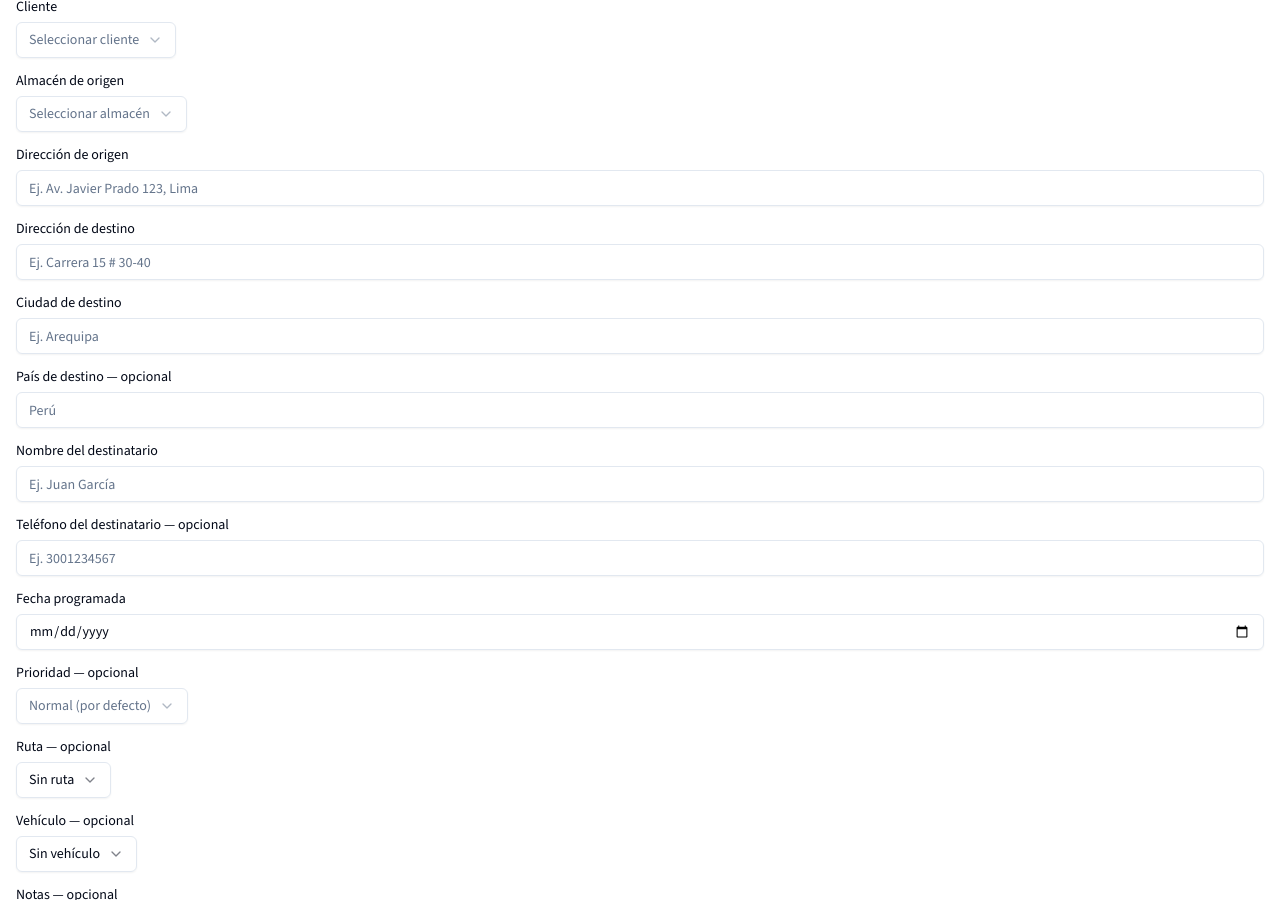
Test case: ShipmentCreateForm — validation › shows error when origin_address is empty on submit
// fill other text fields but leave origin_address empty
In the field with placeholder "Ej. Carrera 15 # 30-40": (640, 262) [16, 244, 1264, 280], type "Av. 456"
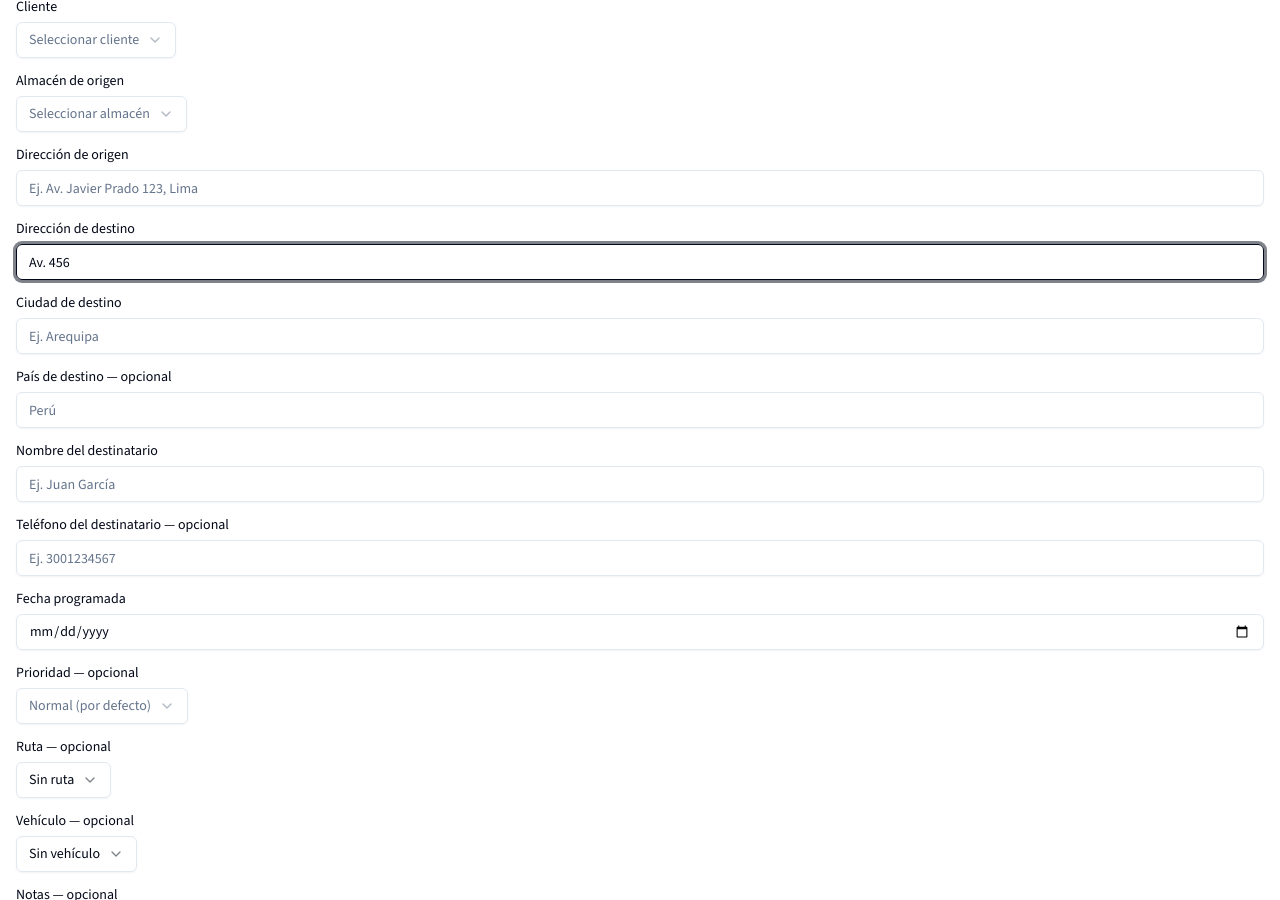
In the field with placeholder "Ej. Arequipa": (640, 336) [16, 318, 1264, 354], type "Medellín"
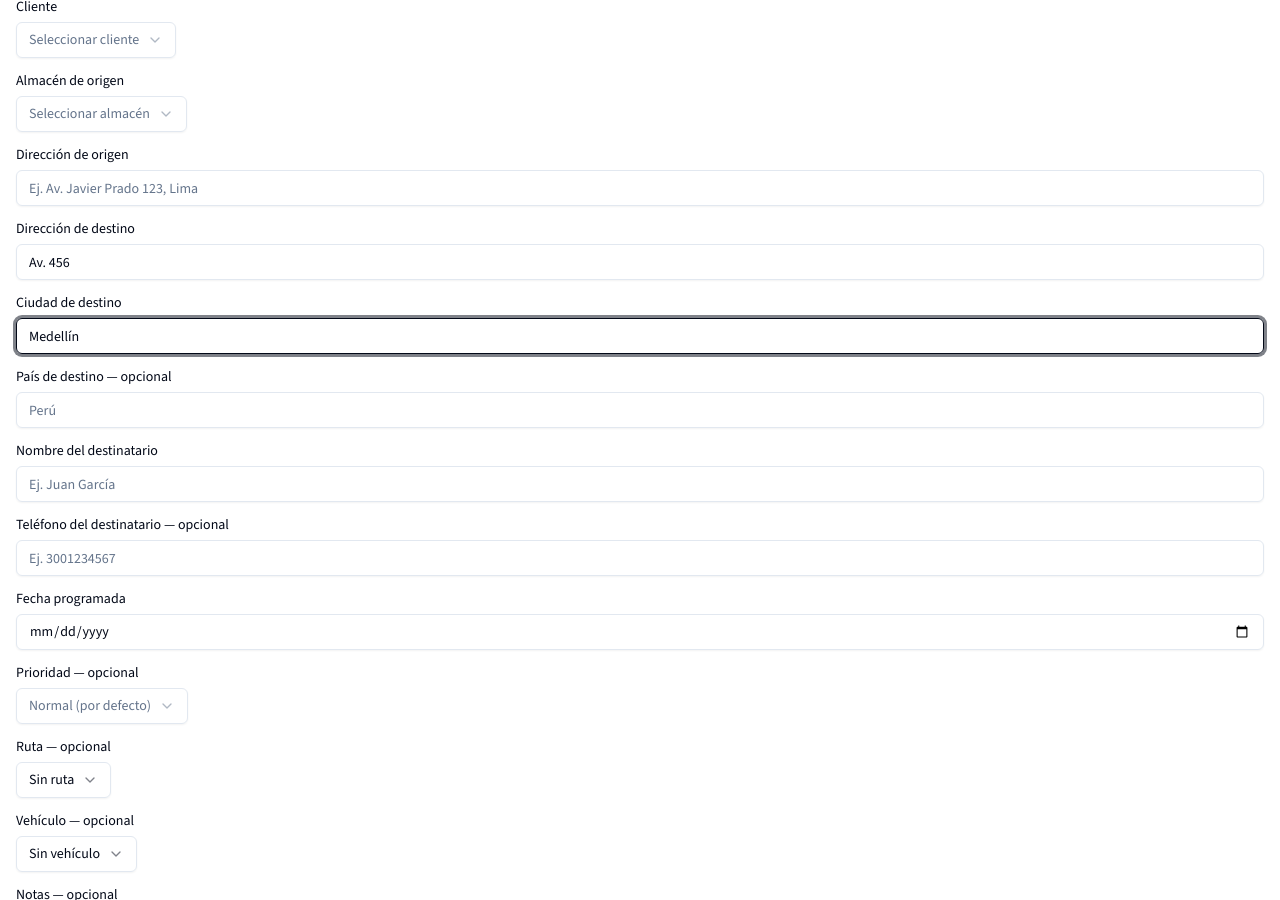
In the field with placeholder "Ej. Juan García": (640, 484) [16, 466, 1264, 502], type "Juan García"
(page scrolled)
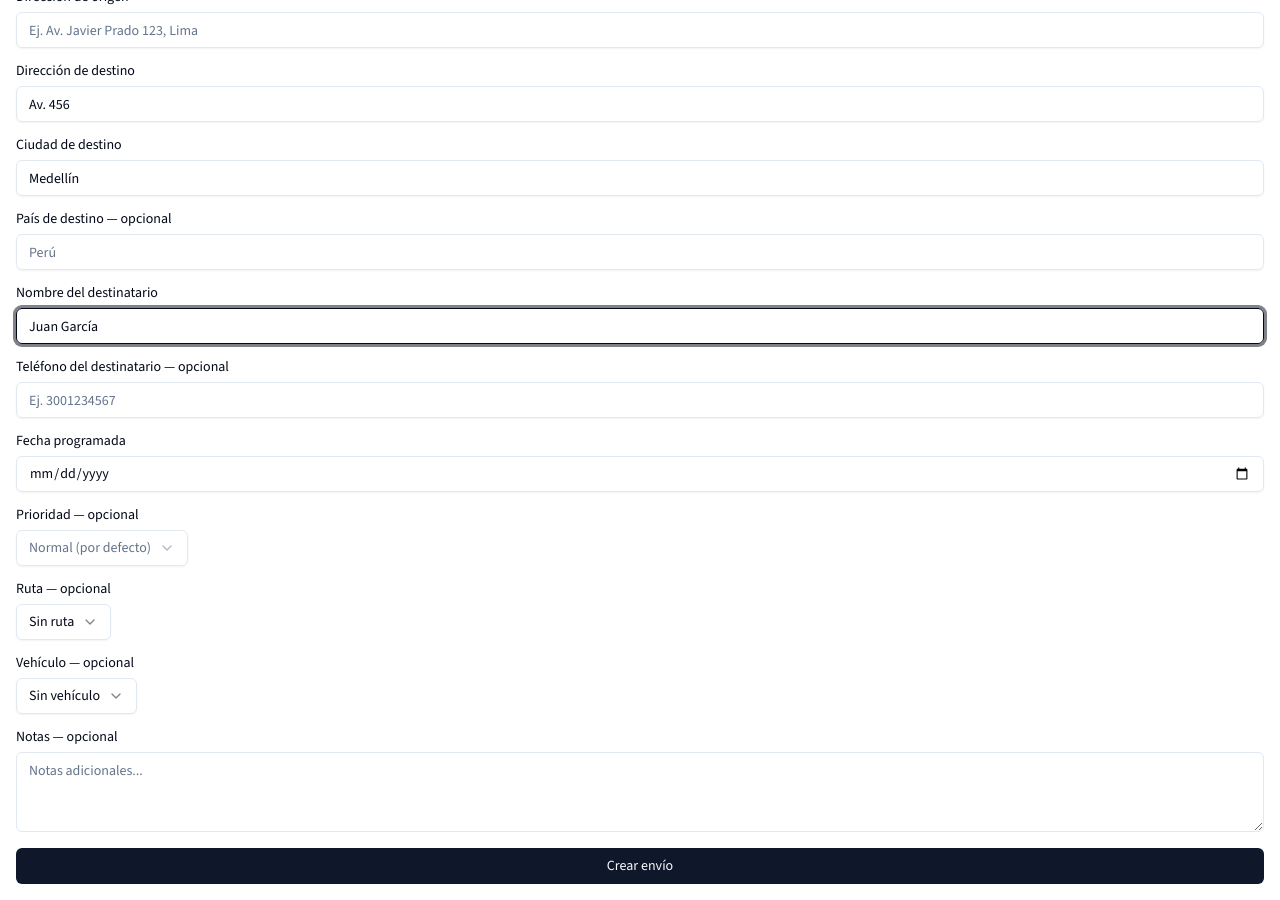
Click the button "Crear envío": (640, 866) [16, 848, 1264, 884]
(page scrolled)
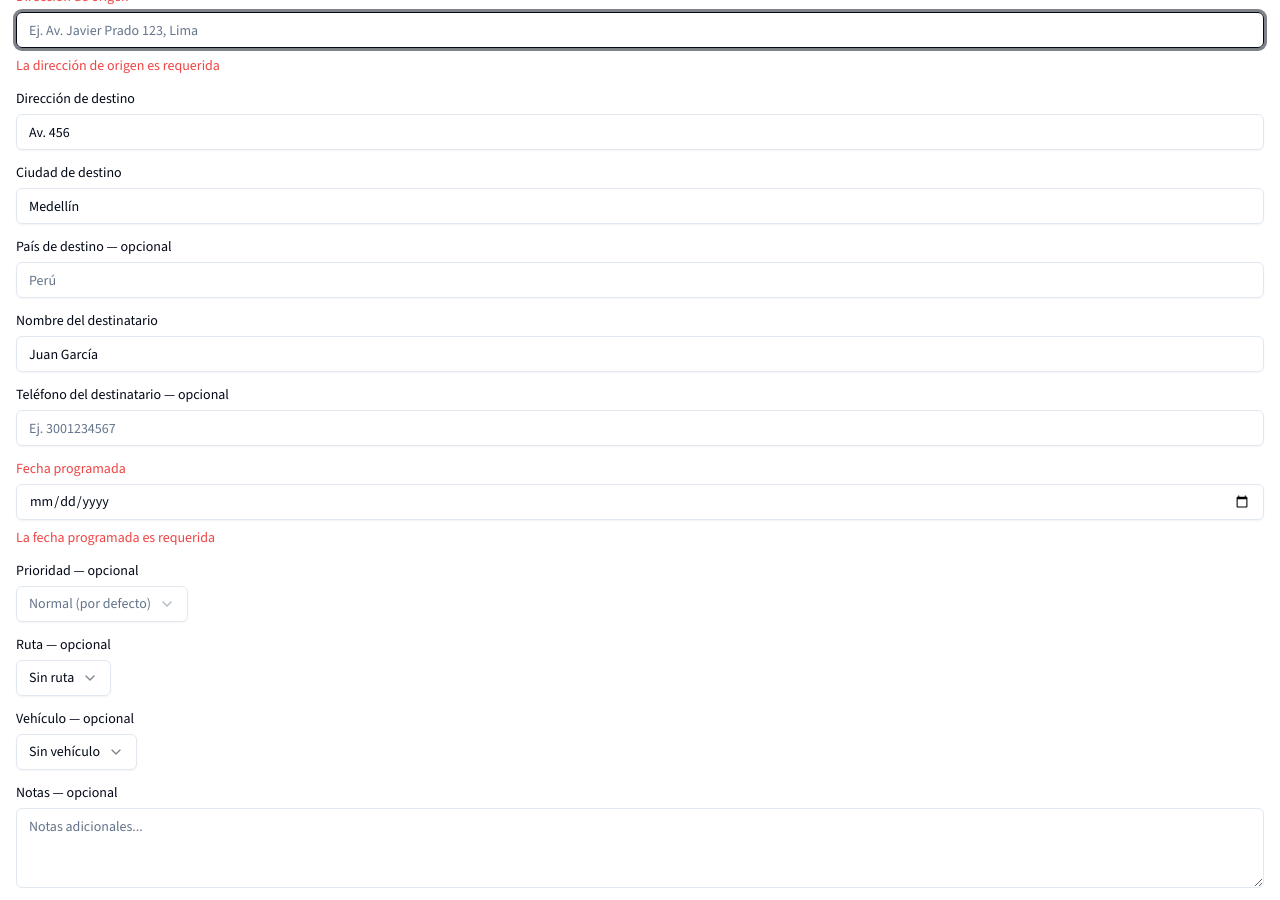
Expected: the text "La dirección de origen es requerida" is shown, [16, 56, 220, 75]
